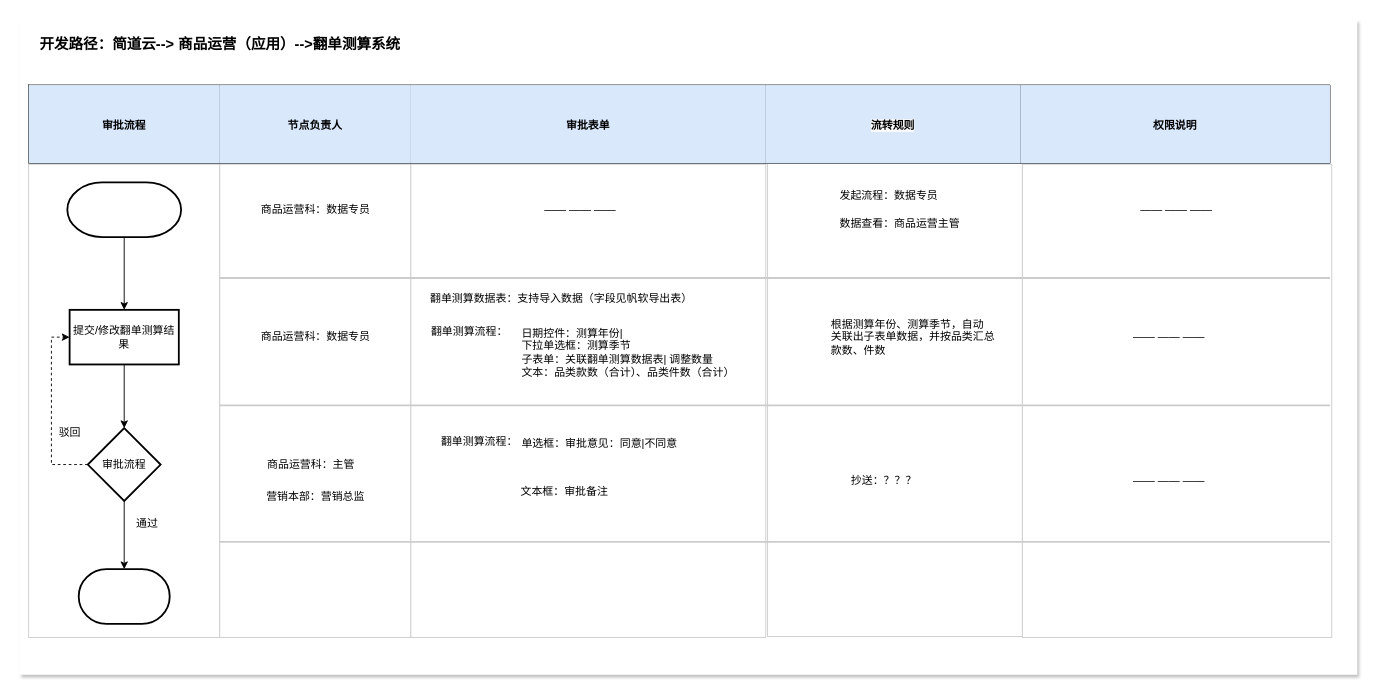
The diagram is 1378 pixels wide and 696 high, and some of its shapes have lost their labels. Each missing label, with the centre of its shape:
"发起翻单测算审批" goes at (124,209).
"流程结束" goes at (123,596).
